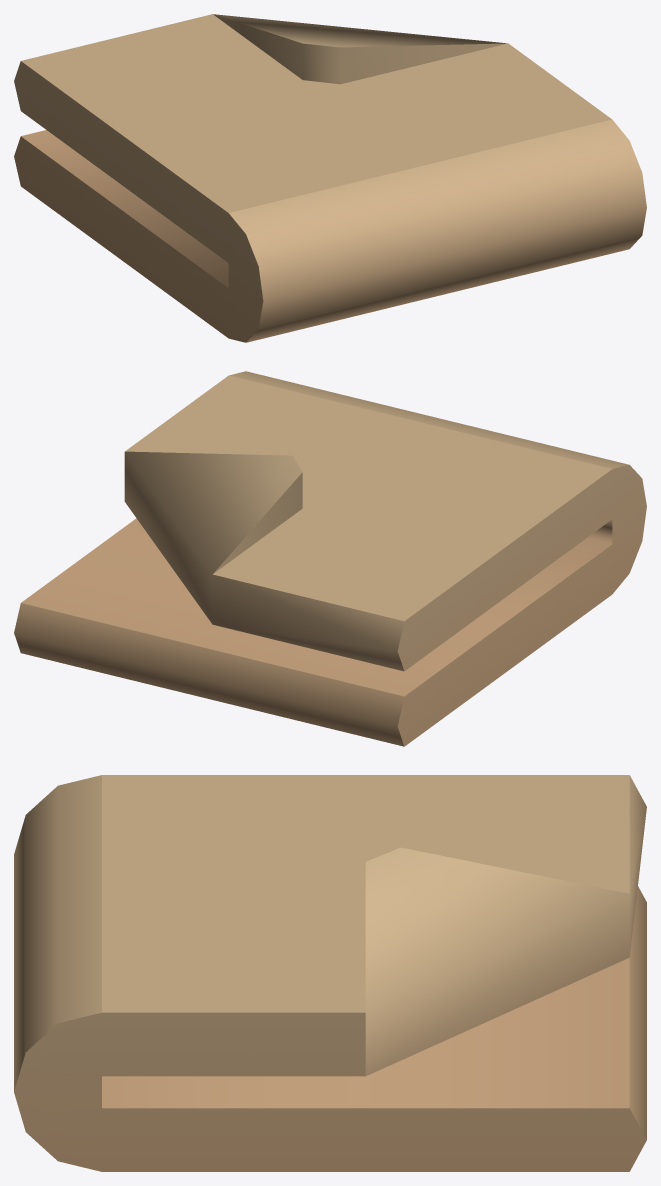
File: plaid-folded_0.glb
The picture shows the model from 3 angles, top to bottom: view 1: azimuth 30°, elevation 25°; view 2: azimuth 150°, elevation 25°; view 3: azimuth 270°, elevation 25°; orthographic projection. The views are drawn at different scales.
Parts seen in each view (by area): view 1: plaid-folded; view 2: plaid-folded; view 3: plaid-folded.
Part boxes in pixels (x1,y1,x2,y2): plaid-folded: (14, 14, 646, 342); plaid-folded: (14, 371, 646, 746); plaid-folded: (14, 775, 646, 1171).
Bounding box in the file's own units: 0.4 × 0.1618 × 0.4502.
